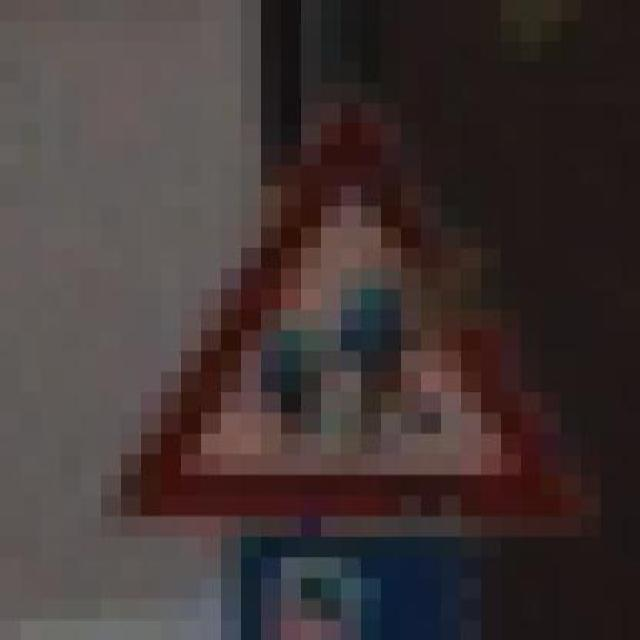Beware of children: (100, 83, 580, 537)
